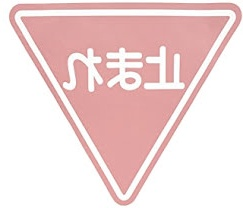Regulatory_sign_triangle: (8, 3, 239, 204)
